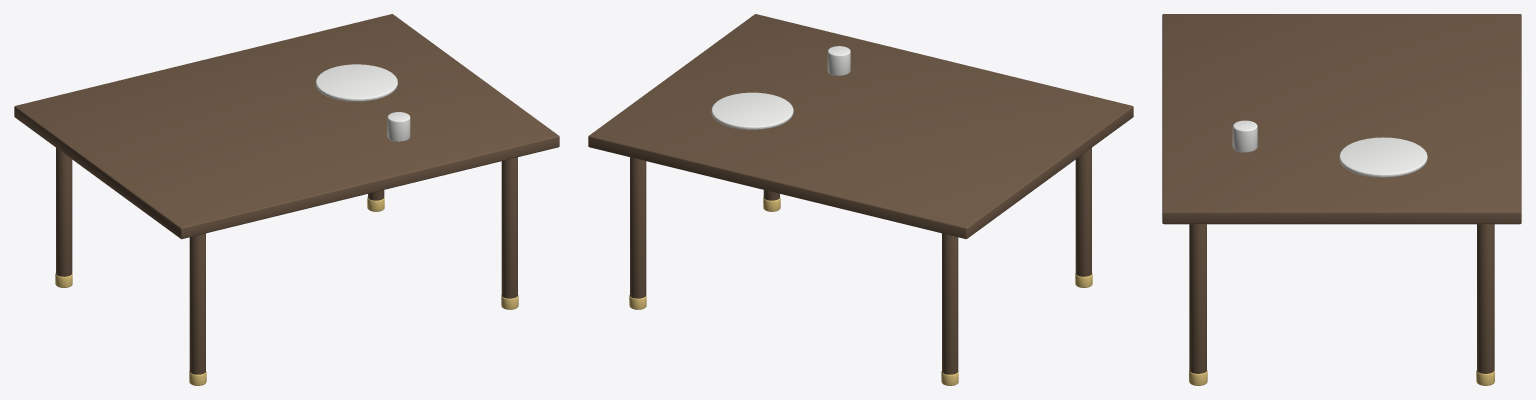
Rendered from table_setting.glb.
3 renders of one model, left to right at view 1: azimuth 30°, elevation 25°; view 2: azimuth 150°, elevation 25°; view 3: azimuth 270°, elevation 25°, orthographic. The views are drawn at different scales.
Visible parts, largest first — view 1: Table_Setting; view 2: Table_Setting; view 3: Table_Setting.
Part boxes in pixels (x1,y1,x2,y2): Table_Setting: (14, 14, 559, 385); Table_Setting: (588, 14, 1133, 385); Table_Setting: (1162, 14, 1521, 385).
Bounding box in the file's own units: 1.7 × 0.84 × 1.3.
